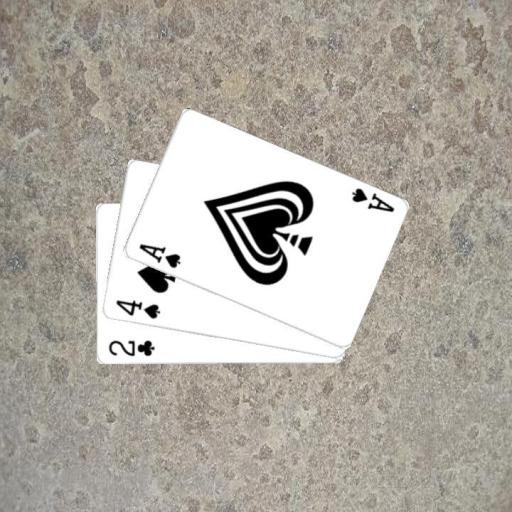2C: (105, 338, 156, 358)
4S: (113, 297, 162, 321)
AS: (348, 185, 396, 214), (135, 241, 181, 271)
